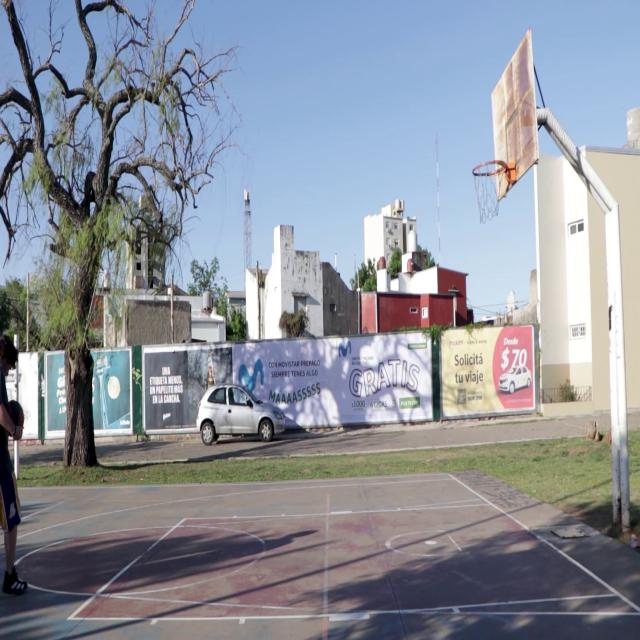ball: (3, 400, 25, 439)
